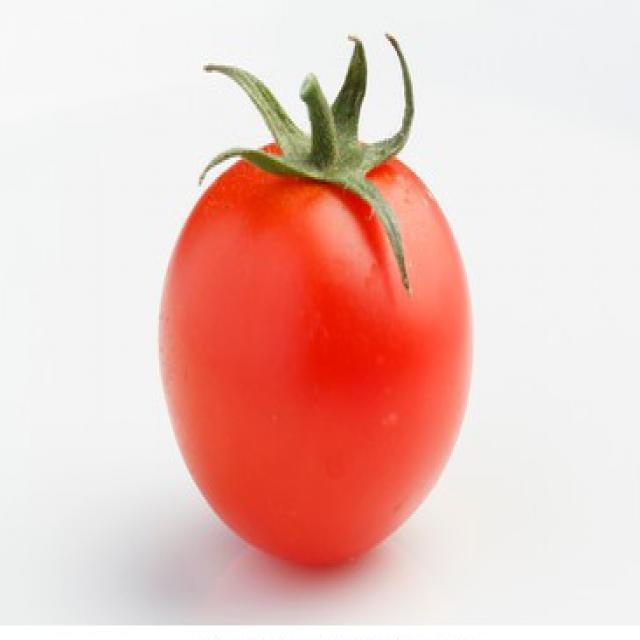Tomato: (157, 54, 475, 570)
